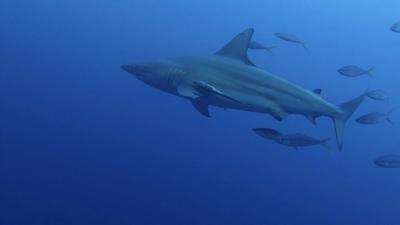Shark -Selachimorpha-: (119, 28, 368, 151)
